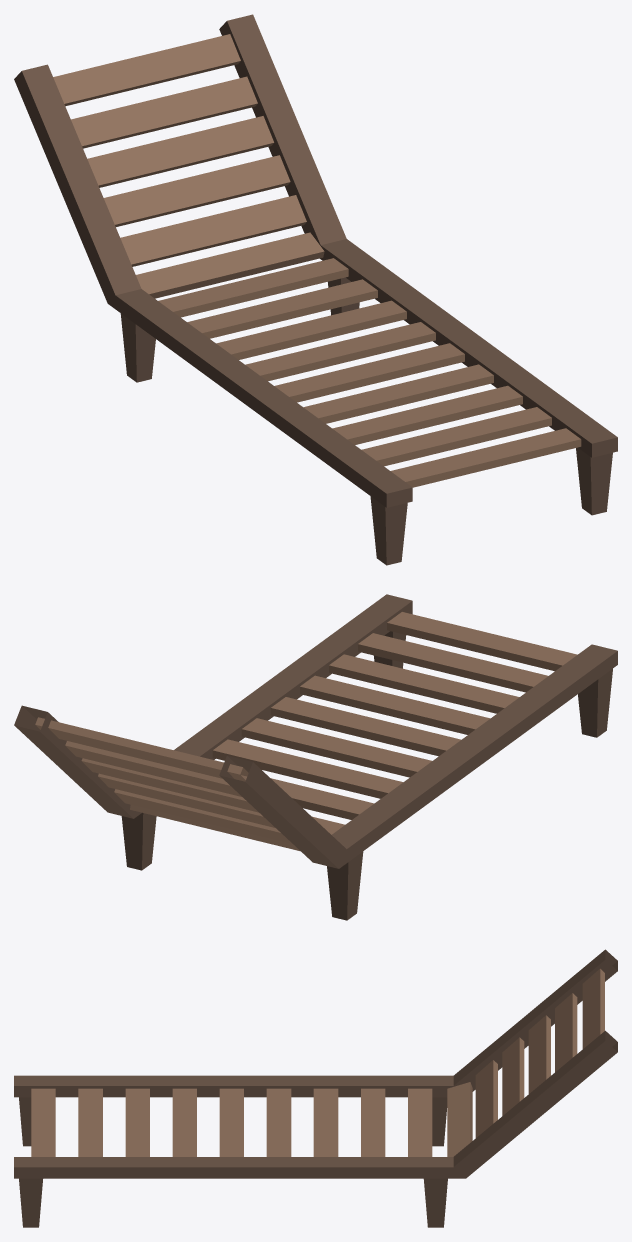
Rendered from sunbed_W.fbx.
3 renders of one model, top to bottom at view 1: azimuth 30°, elevation 25°; view 2: azimuth 150°, elevation 25°; view 3: azimuth 270°, elevation 25°, orthographic. The views are drawn at different scales.
Parts seen in each view (by area): view 1: Sunbed_01; view 2: Sunbed_01; view 3: Sunbed_01.
Boxes of the visible parts, x1,y1,x2,y2 form: Sunbed_01: [14, 14, 617, 565]; Sunbed_01: [14, 594, 617, 920]; Sunbed_01: [14, 949, 617, 1227].
Size of the model in its own units: 72.29 by 69.58 by 202.
